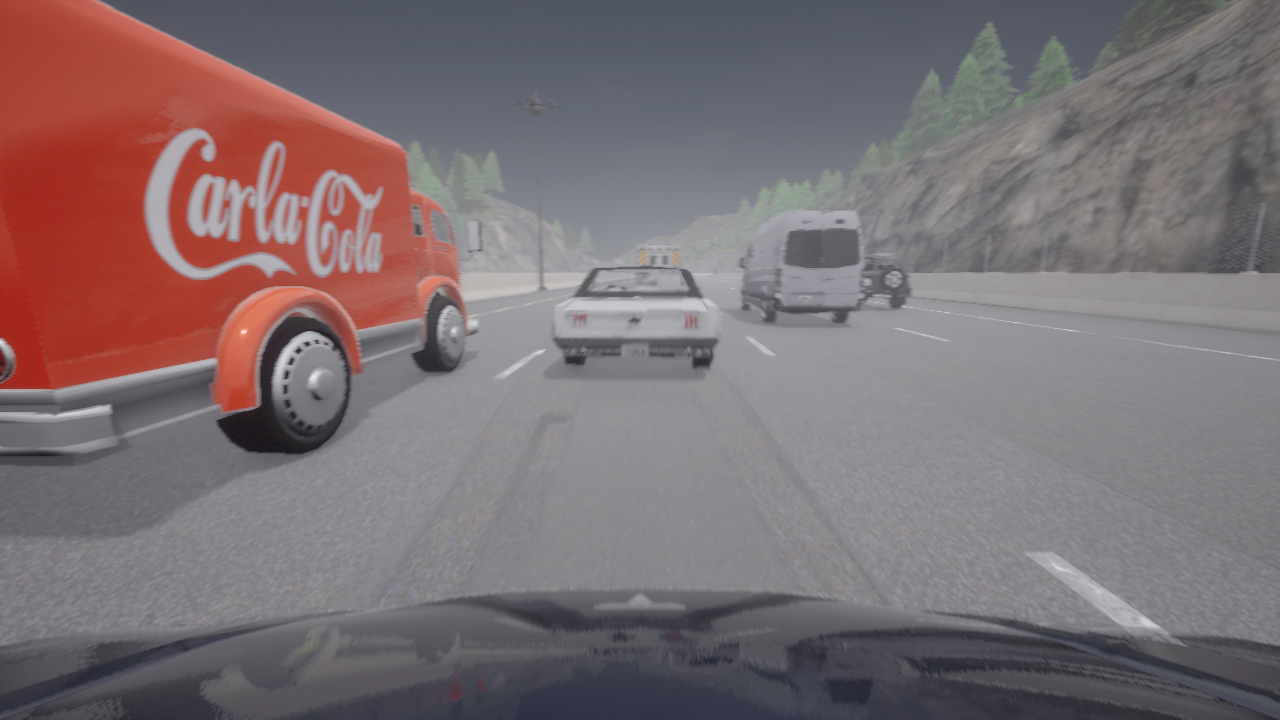cyclist: (0, 588, 1279, 719), (551, 265, 720, 368), (738, 210, 864, 323), (862, 254, 911, 308), (639, 248, 682, 267), (665, 266, 681, 267)
